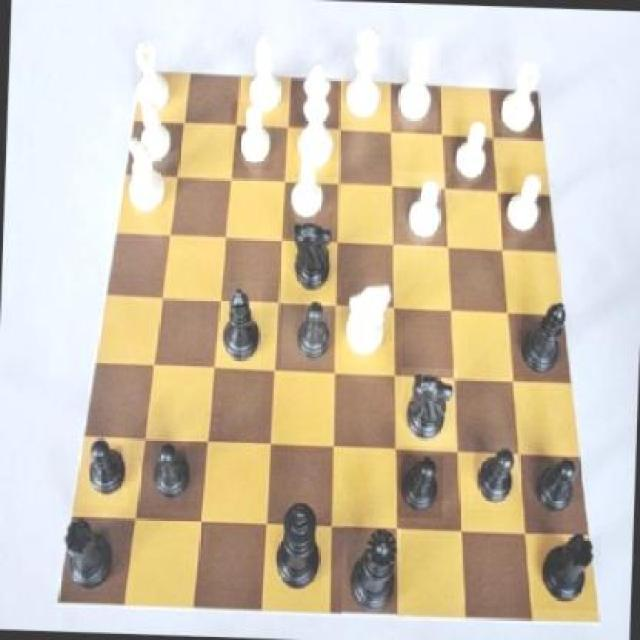bishop: (512, 294, 572, 378), (215, 280, 262, 370)
black-bishop: (266, 496, 324, 594)
black-king: (398, 368, 458, 448), (286, 210, 334, 298)
black-knight: (144, 435, 198, 511), (530, 454, 586, 524), (282, 302, 338, 369), (77, 437, 130, 506), (468, 443, 520, 511), (398, 454, 444, 518)
black-pawn: (342, 528, 401, 620)
black-queen: (57, 512, 123, 592), (532, 534, 600, 611)
black-rook: (392, 37, 440, 131), (240, 31, 289, 120)
white-bishop: (289, 59, 340, 178)
white-king: (342, 277, 391, 366), (123, 138, 171, 221)
white-knight: (396, 170, 446, 248), (132, 94, 180, 168), (500, 168, 547, 240), (229, 101, 277, 170), (283, 156, 329, 226), (449, 117, 492, 185)
white-pawn: (340, 22, 391, 126)
white-queen: (492, 48, 545, 134), (129, 31, 173, 120)
